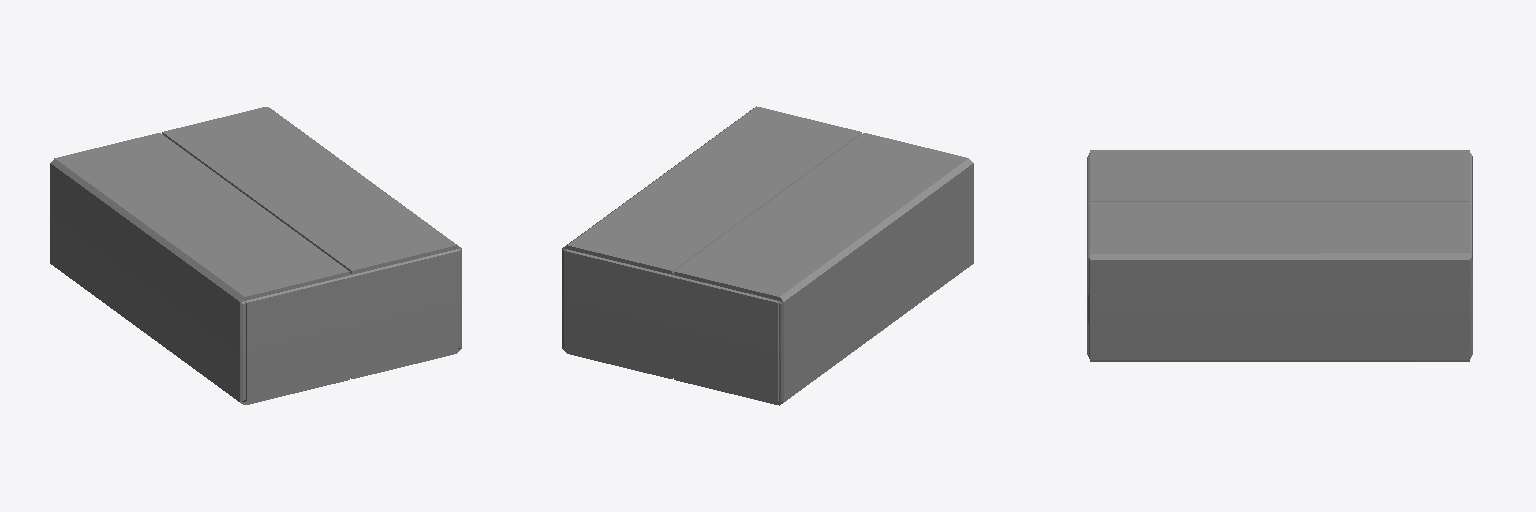
The model's file is ColaBox.obj.
3 views of the same model, side by side, from view 1: azimuth 30°, elevation 25°; view 2: azimuth 150°, elevation 25°; view 3: azimuth 270°, elevation 25° (orthographic).
Visible parts, largest first — view 1: Cola_Box_01; view 2: Cola_Box_01; view 3: Cola_Box_01.
Part boxes in pixels (left/top/right/bottom): Cola_Box_01: left=50, top=107, right=461, bottom=404; Cola_Box_01: left=562, top=106, right=973, bottom=405; Cola_Box_01: left=1087, top=150, right=1472, bottom=361.
Size of the model in its own units: 32.98 by 15.42 by 49.66.